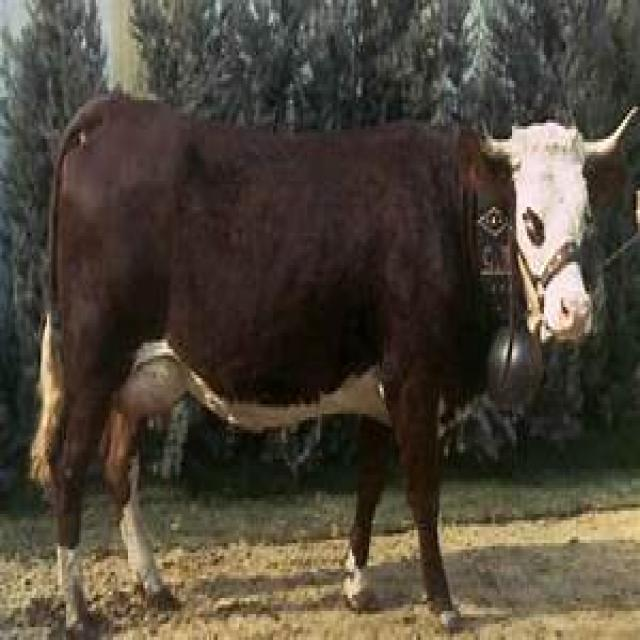cow: (28, 94, 640, 637)
